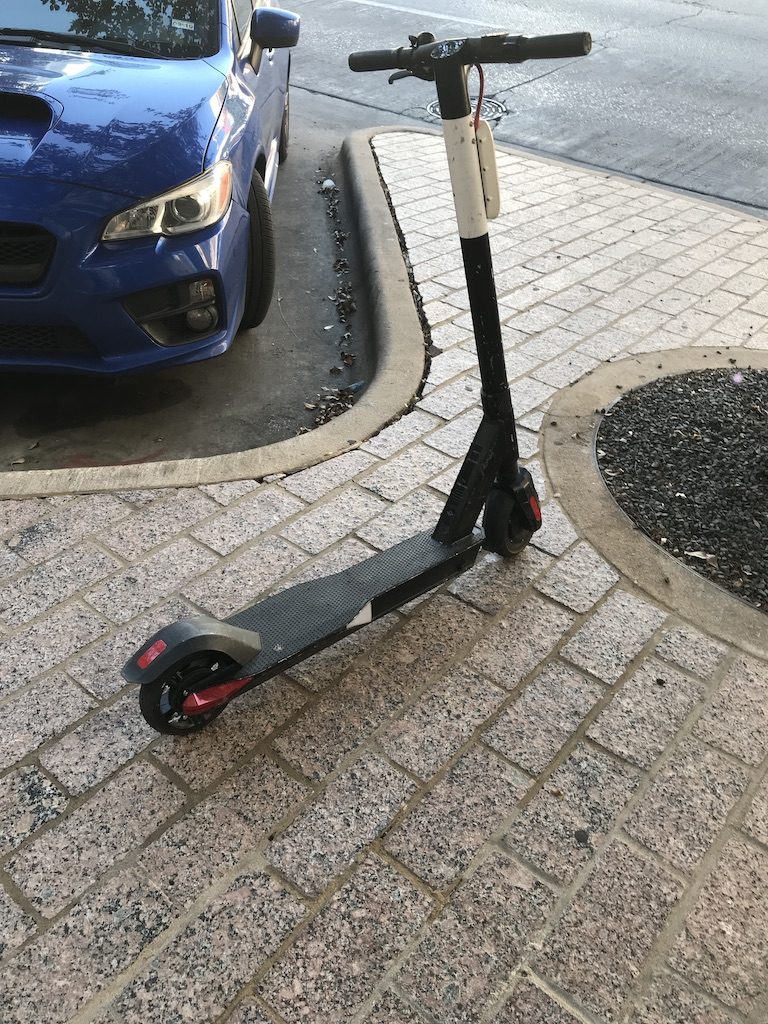scooter: (121, 30, 595, 738)
